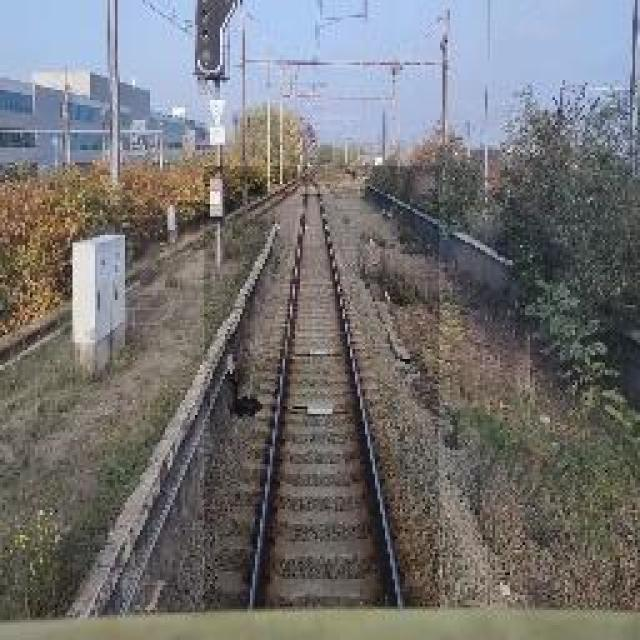rail: (205, 168, 440, 612)
